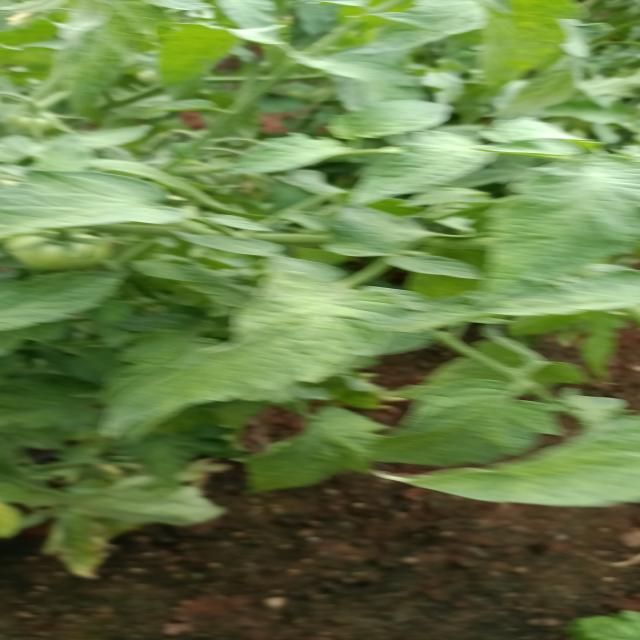Healthy Leaf: (94, 263, 467, 430), (326, 92, 458, 135)
